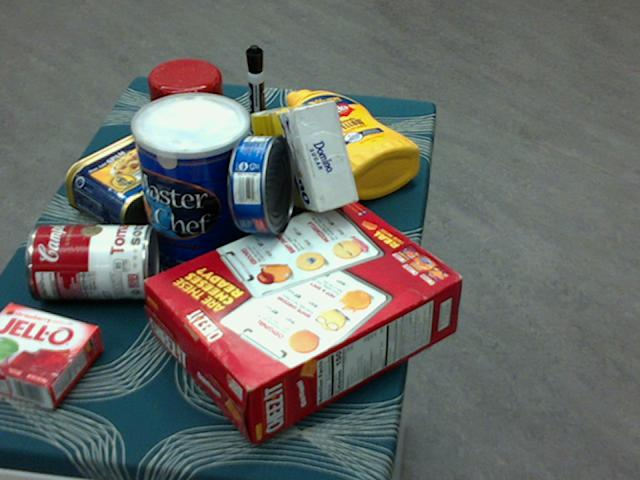cracker_box: (143, 194, 462, 444)
gelatin_box: (0, 301, 102, 408)
large_marker: (245, 44, 266, 148)
master_chef_can: (131, 94, 253, 280)
mug: (146, 59, 231, 159)
mustard_bottle: (284, 88, 419, 199)
potted_meat_can: (64, 135, 196, 237)
sugar_box: (247, 102, 357, 212)
tomato_soup_can: (24, 220, 157, 300)
tuna_fish_can: (228, 133, 294, 232)
